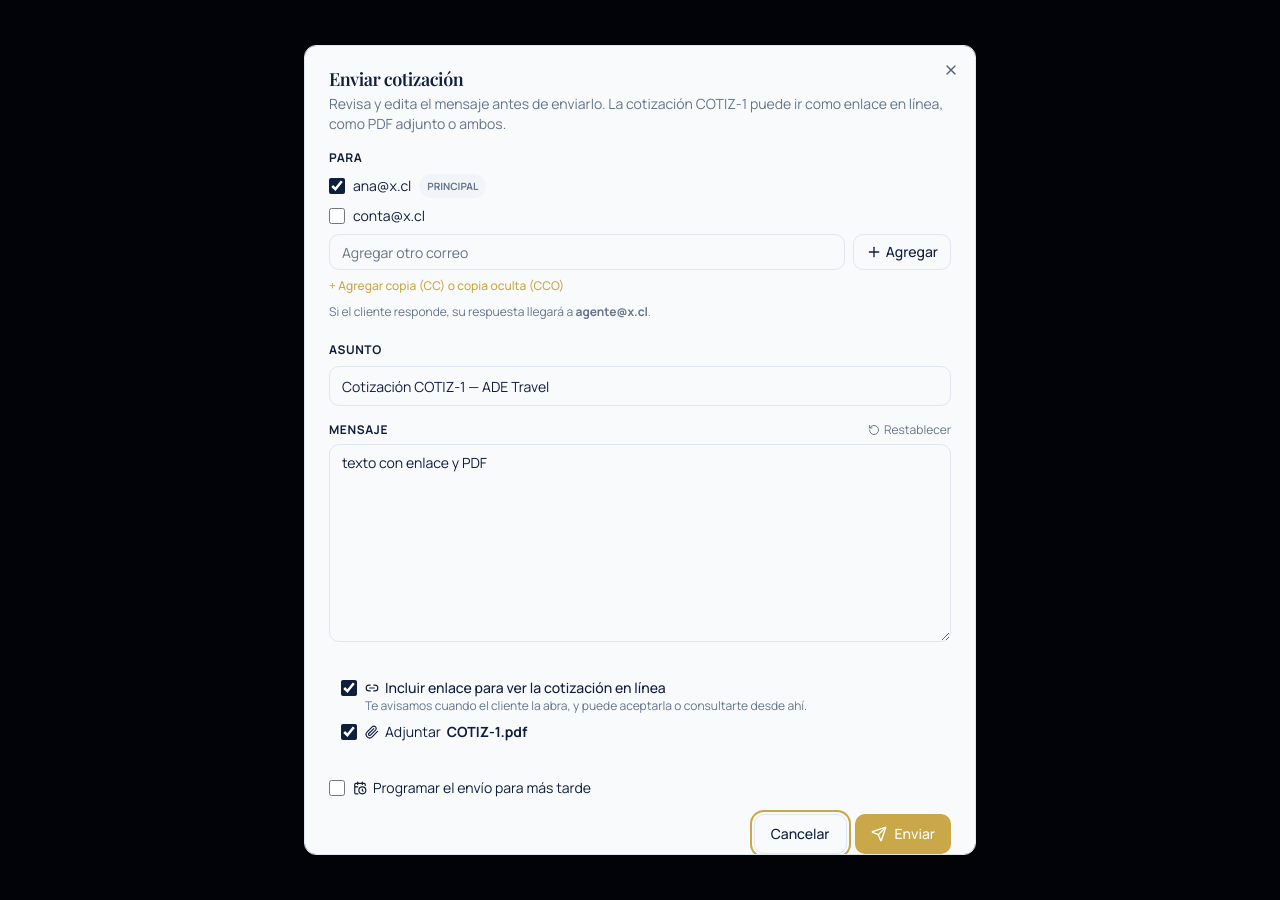
Test: SendQuotationDialog › copias, qué se envía y programación › el texto sugerido cambia con lo que se envía, mientras la persona no lo haya editado
Expected: the field labelled "Asunto" is shown, [329,366,951,406]
Click the checkbox labelled "Adjuntar COTIZ-1.pdf". click: (349, 732)
box: [341,724,357,740]
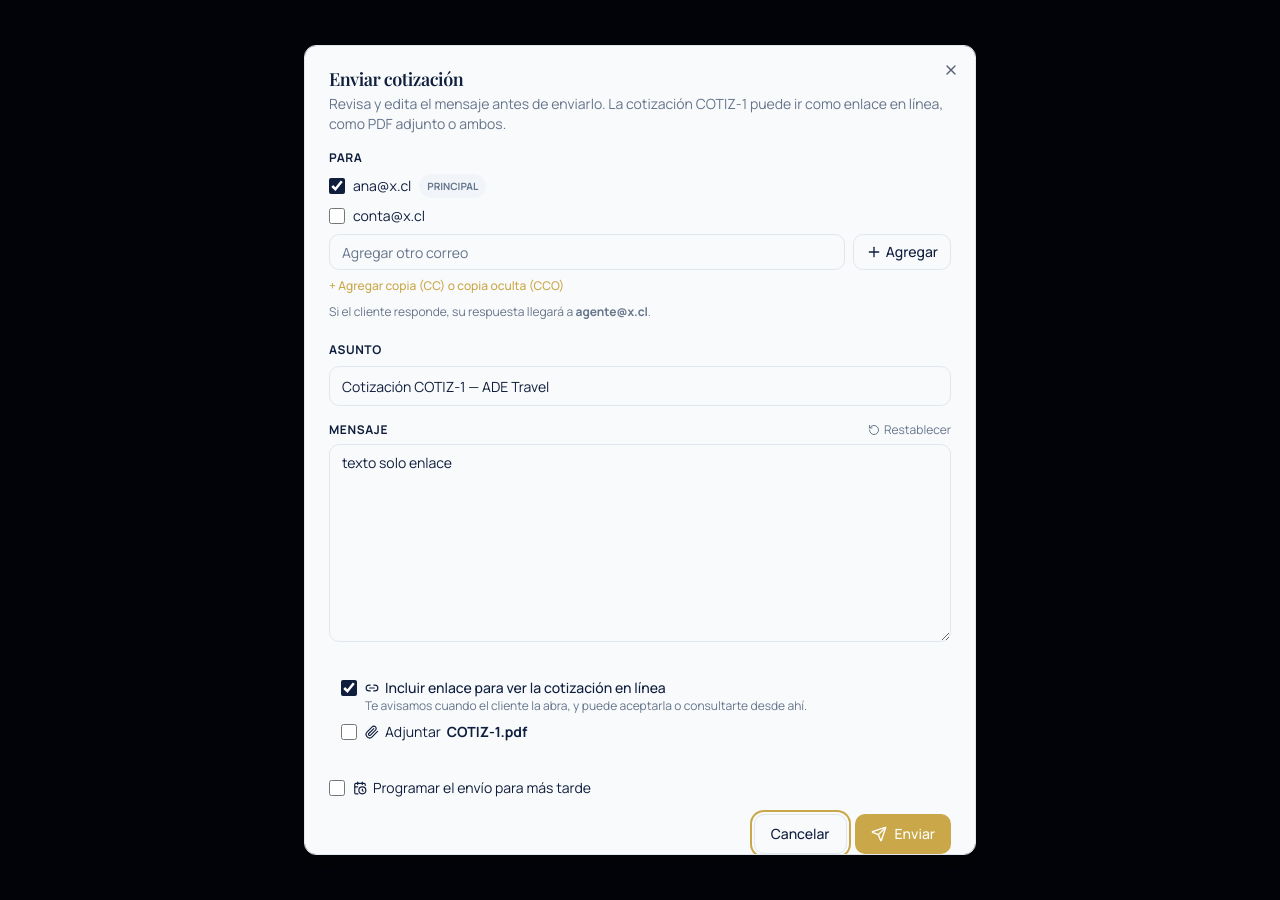
Expected: the text box labelled "Mensaje" holds "texto solo enlace", [329,444,951,642]
Click the checkbox labelled "Adjuntar COTIZ-1.pdf". click: (349, 732)
box: [341,724,357,740]
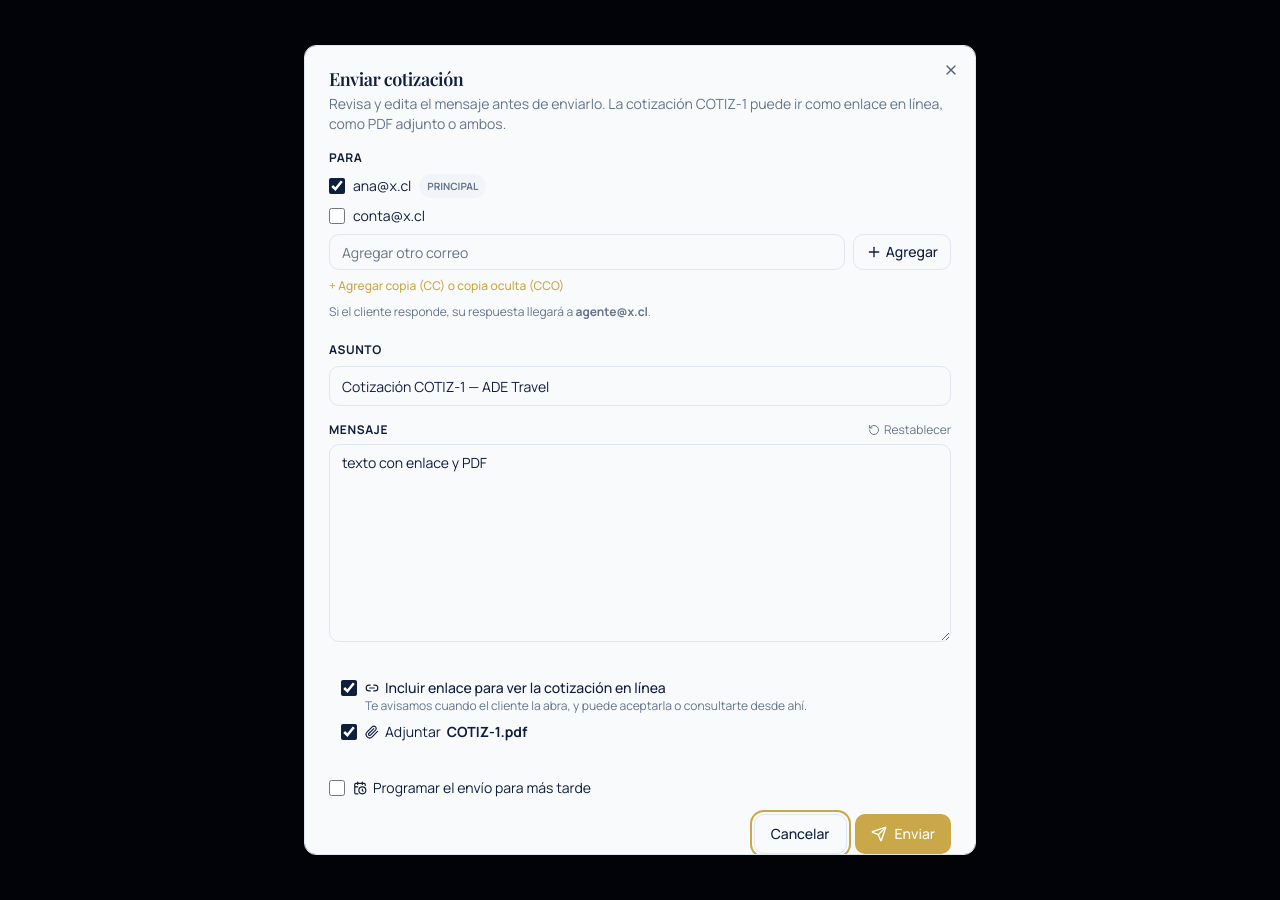
Click the checkbox labelled "enlace para ver la cotización en línea". click: (349, 688)
box: [341,680,357,696]
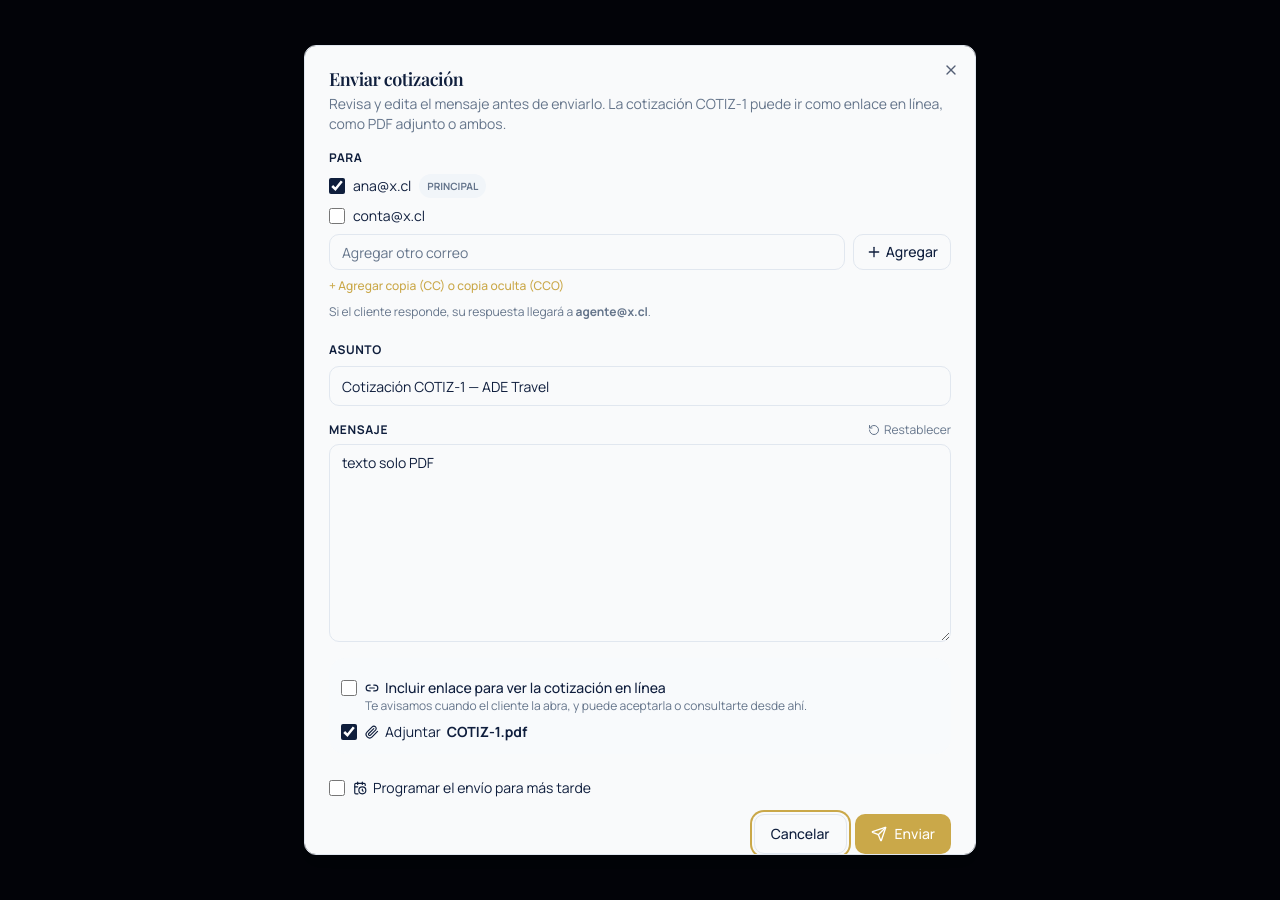
Expected: the text box labelled "Mensaje" holds "texto solo PDF", [329,444,951,642]
Click the checkbox labelled "enlace para ver la cotización en línea". click: (349, 688)
box: [341,680,357,696]
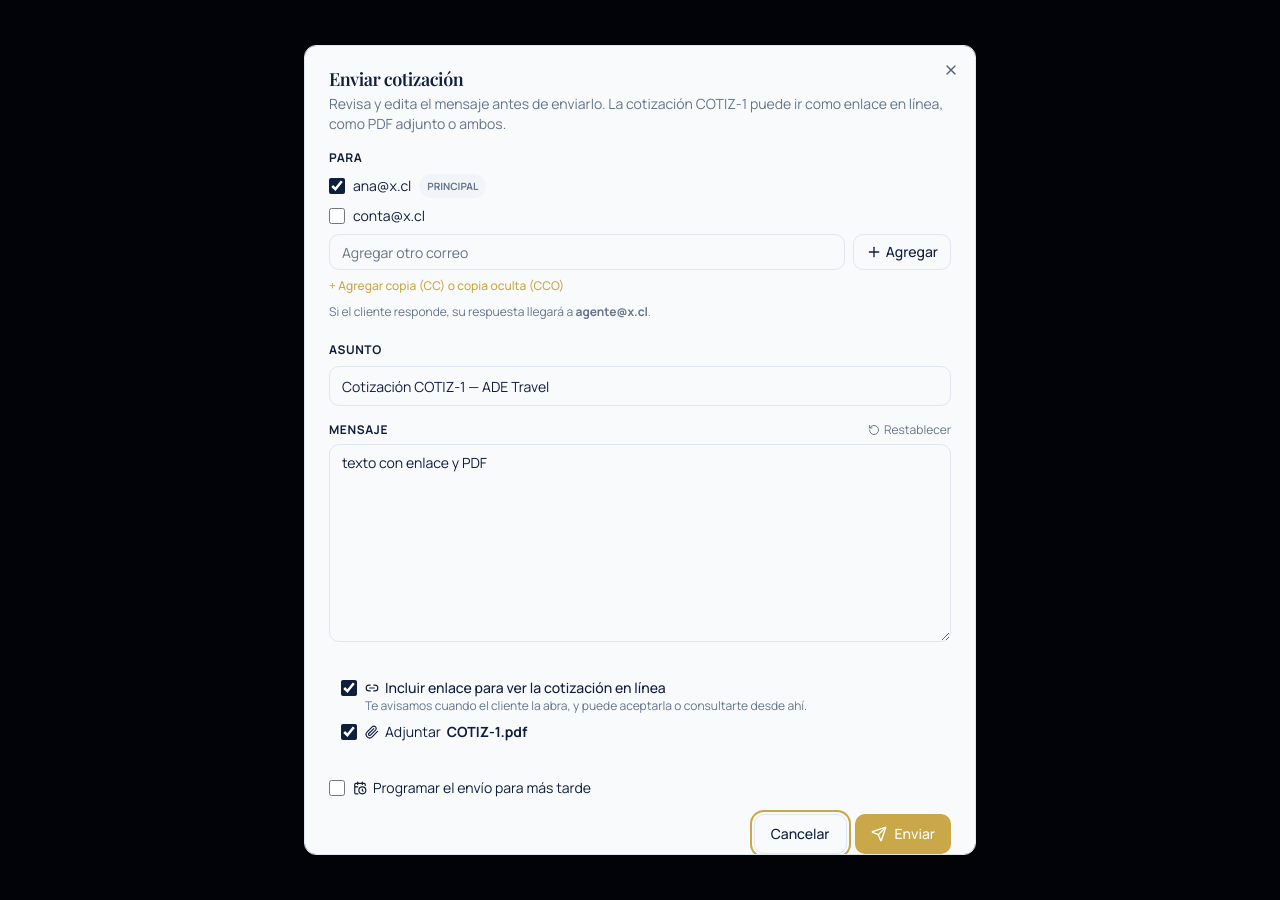
Expected: the text box labelled "Mensaje" holds "texto con enlace y PDF", [329,444,951,642]
